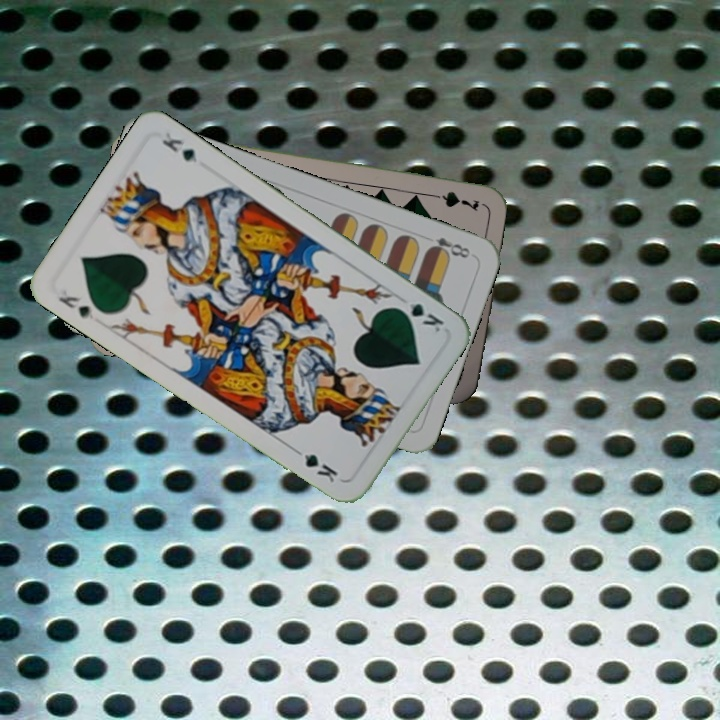E8: (423, 233, 473, 261)
G7: (423, 187, 482, 211)
GK: (54, 285, 103, 326), (391, 299, 446, 335)
